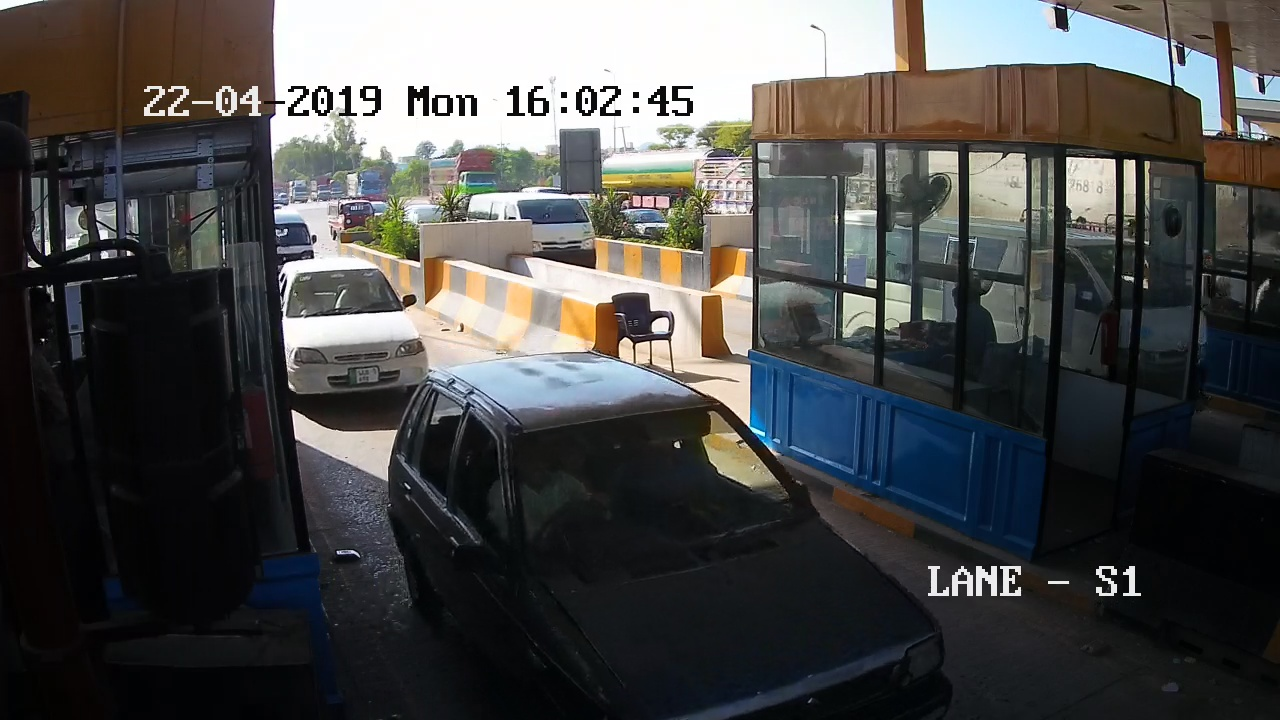Number Plate (Car): (348, 367, 380, 382)
